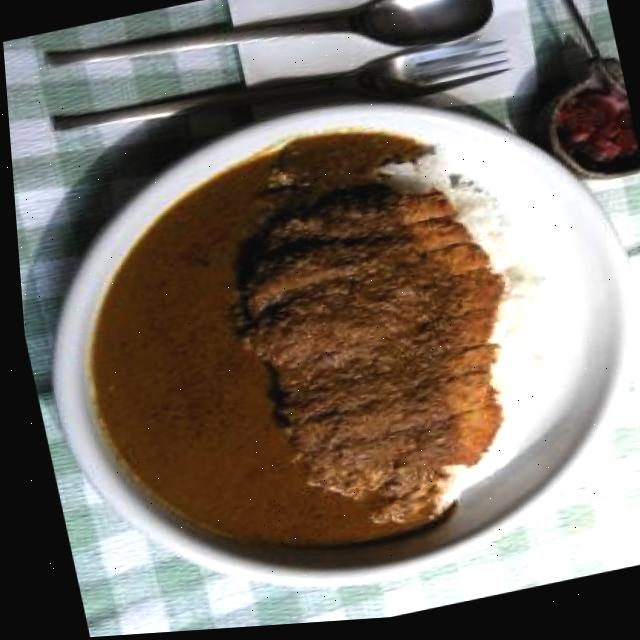猪肉菜式: (4, 33, 640, 640)
